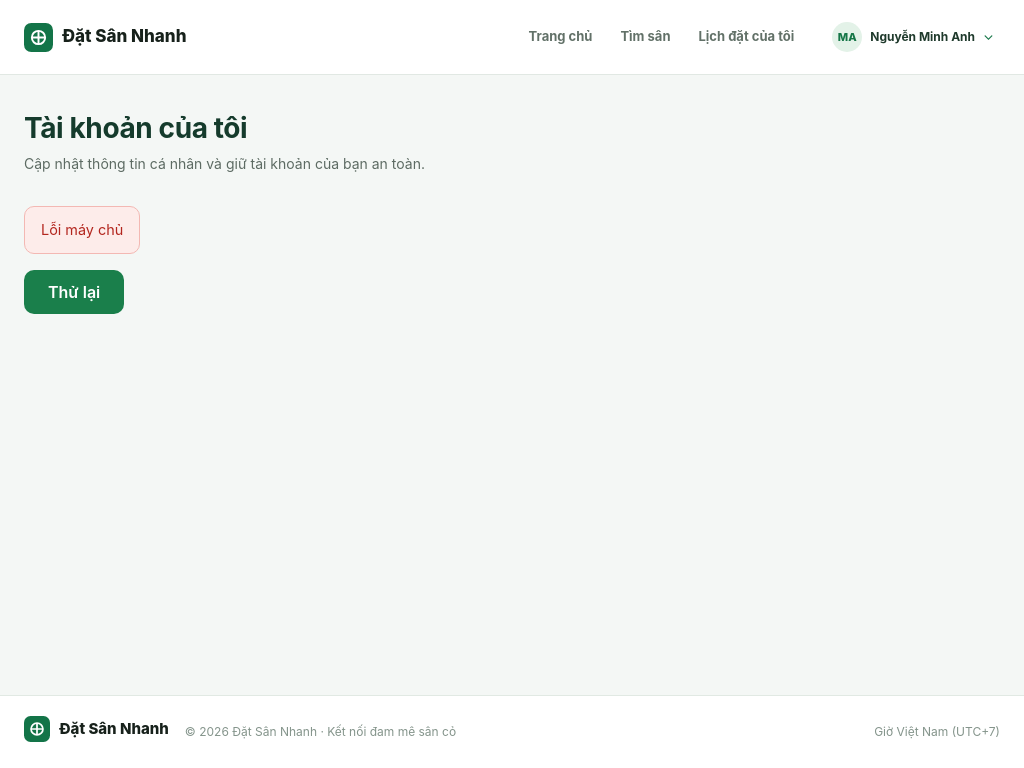
Test case: AccountPage › lỗi tải thì có nút Thử lại
Expected: the text "Lỗi máy chủ" is shown, left=24, top=206, right=140, bottom=254
Click the button "Thử lại": (74, 292) left=24, top=270, right=124, bottom=314
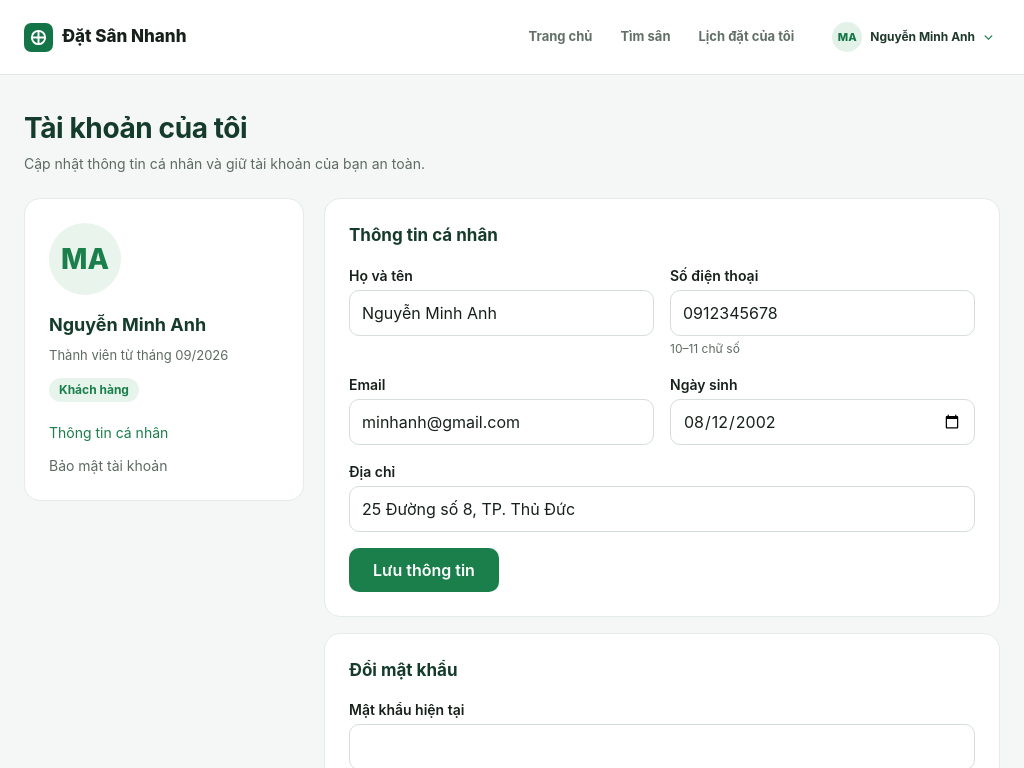
Expected: the field labelled "Họ và tên" is shown, left=350, top=290, right=653, bottom=334
